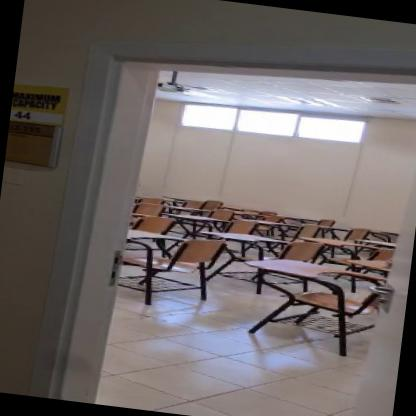open: (19, 16, 413, 415)
